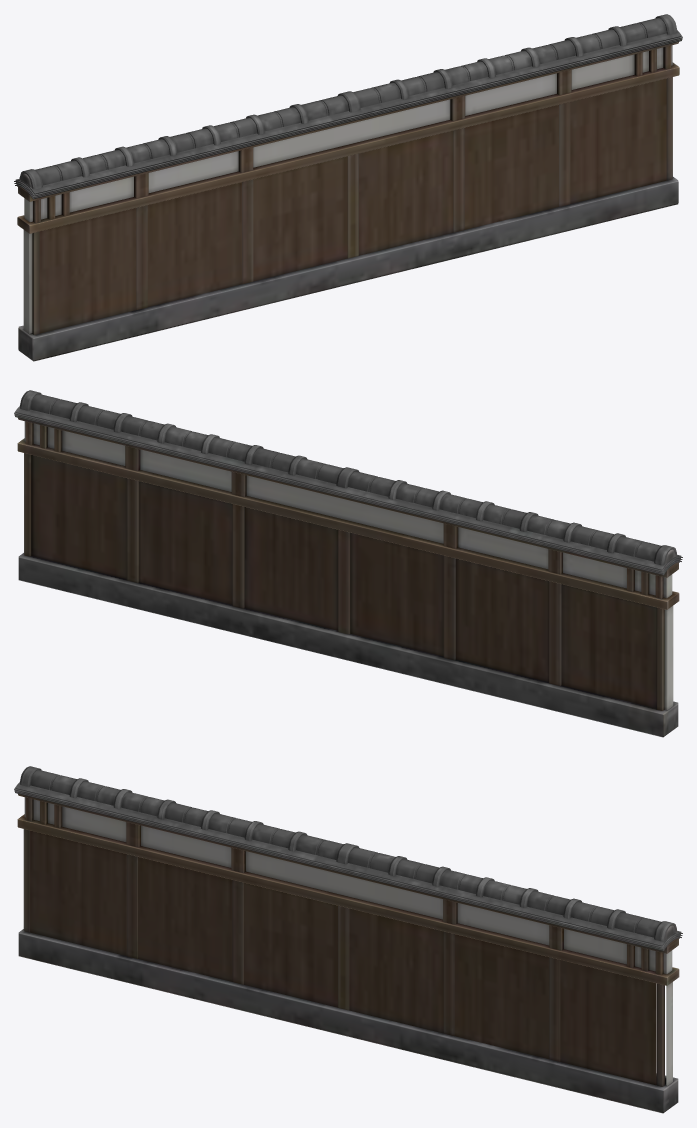
Rendered from Architecture_JapaneseStyle_Fence_a18f51.glb.
3 views of the same model, one above another, from view 1: azimuth 30°, elevation 25°; view 2: azimuth 150°, elevation 25°; view 3: azimuth 330°, elevation 25° (orthographic).
Bounding box in the file's own units: 4.05 × 1.09 × 0.2161.
Materials: 1 (1 with a texture image).
